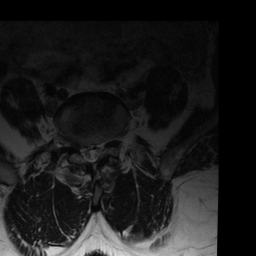CCS_normal: (89, 139, 95, 168)
LFS_severe_stenosis: (103, 134, 109, 151)
LLS_normal: (95, 137, 102, 162)
RFS_severe_stenosis: (74, 136, 81, 158)
RLS_normal: (82, 140, 88, 166)
